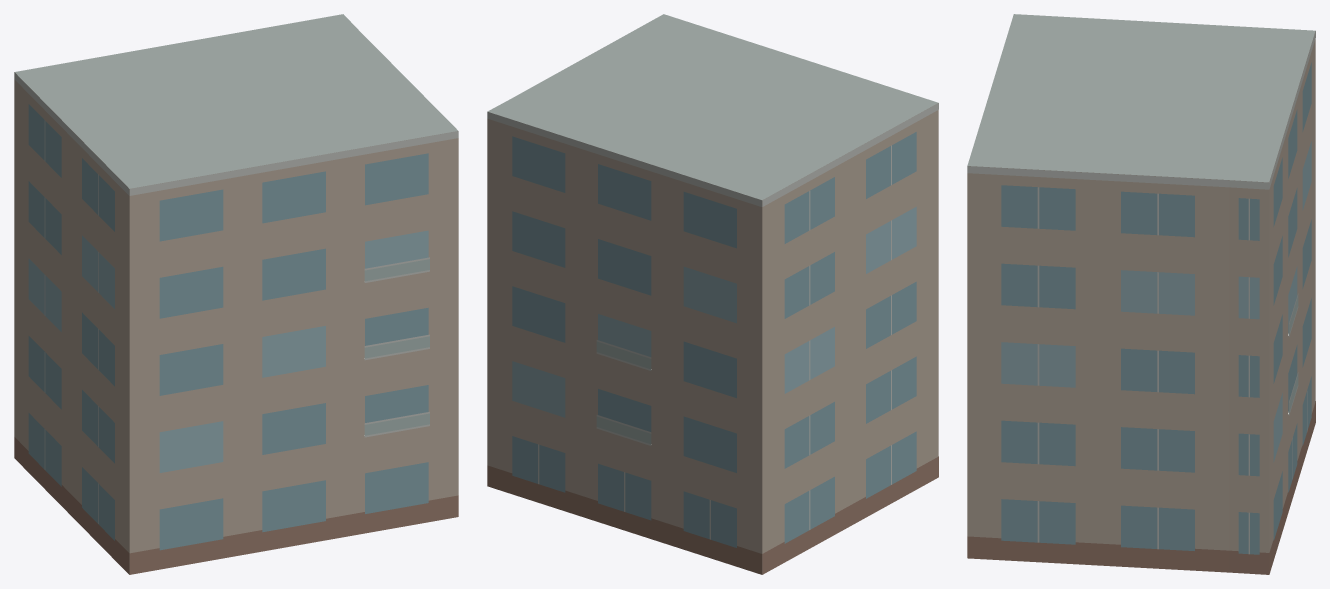
The model's file is survey-upis-32688450.glb.
3 renders of one model, left to right at view 1: azimuth 30°, elevation 25°; view 2: azimuth 150°, elevation 25°; view 3: azimuth 270°, elevation 25°, orthographic. The views are drawn at different scales.
Visible parts, largest first — view 1: survey-upis-32688450.tmp; view 2: survey-upis-32688450.tmp; view 3: survey-upis-32688450.tmp.
Boxes of the visible parts, x1=… form: survey-upis-32688450.tmp: x1=14, y1=14, x2=458, y2=574; survey-upis-32688450.tmp: x1=487, y1=14, x2=938, y2=574; survey-upis-32688450.tmp: x1=967, y1=14, x2=1315, y2=574.
Size of the model in its own units: 12.12 by 13.15 by 10.59.
